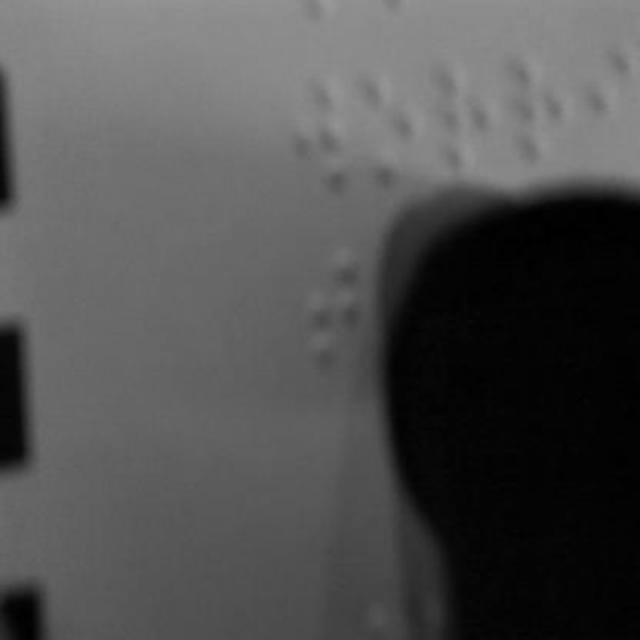braiile: (510, 44, 582, 178), (362, 63, 434, 193), (285, 63, 351, 204), (304, 238, 366, 378), (437, 51, 501, 186)
